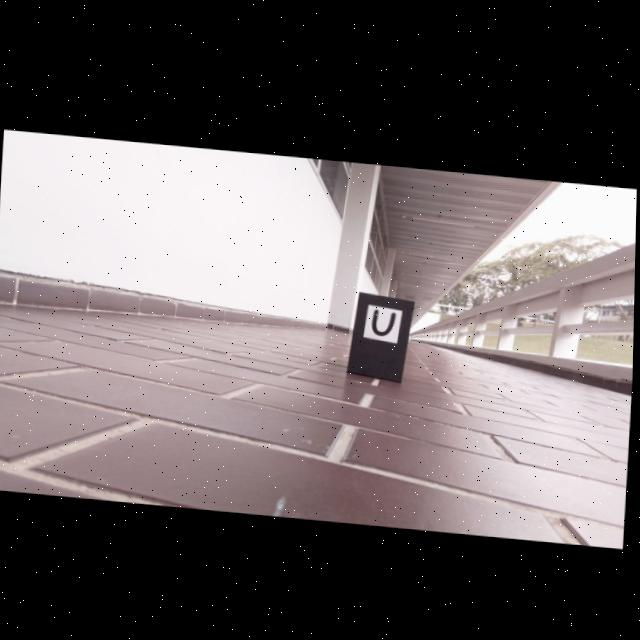U: (373, 304, 397, 330)
